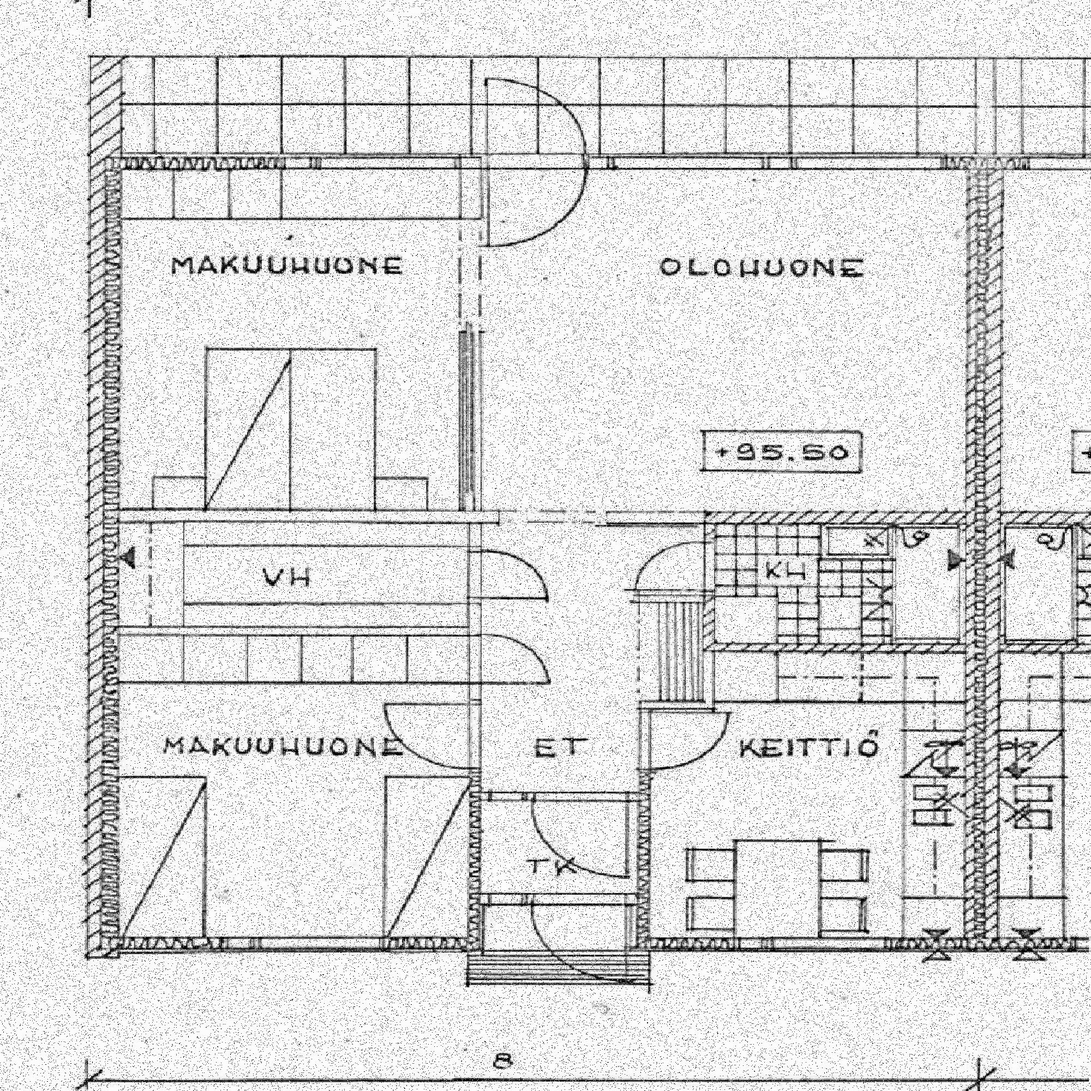wall: (87, 153, 119, 952), (88, 152, 1002, 170), (968, 512, 1002, 952), (968, 152, 1002, 512), (87, 937, 482, 952), (469, 332, 481, 792), (637, 938, 1003, 952), (87, 511, 481, 523), (703, 511, 1003, 524), (88, 55, 119, 170), (87, 626, 481, 635), (703, 642, 1003, 651), (637, 792, 650, 952), (469, 792, 482, 951), (976, 55, 996, 152), (469, 792, 650, 802), (703, 511, 715, 643), (606, 511, 715, 524), (462, 153, 482, 217), (639, 701, 650, 792), (703, 643, 715, 709), (639, 701, 715, 709), (482, 511, 499, 523)
